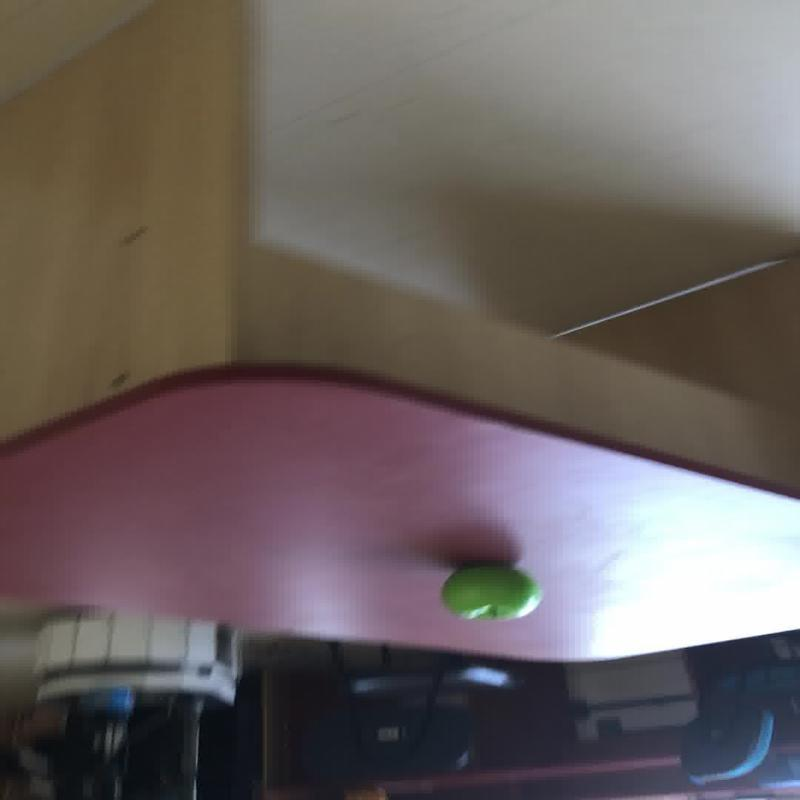apple: (438, 564, 543, 620)
